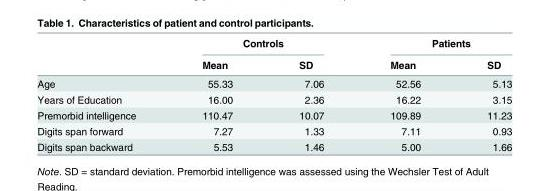table: (36, 36, 511, 152)
table column: (36, 36, 168, 152), (168, 36, 265, 152), (356, 36, 453, 152), (265, 36, 356, 152), (453, 36, 511, 152)
table column header: (36, 36, 511, 73)
table row: (36, 53, 511, 73), (36, 73, 511, 91), (36, 36, 511, 53), (36, 106, 511, 122), (36, 122, 511, 138), (36, 91, 511, 106), (36, 138, 511, 152)
table spanning cell: (168, 36, 356, 53), (356, 36, 511, 53)
